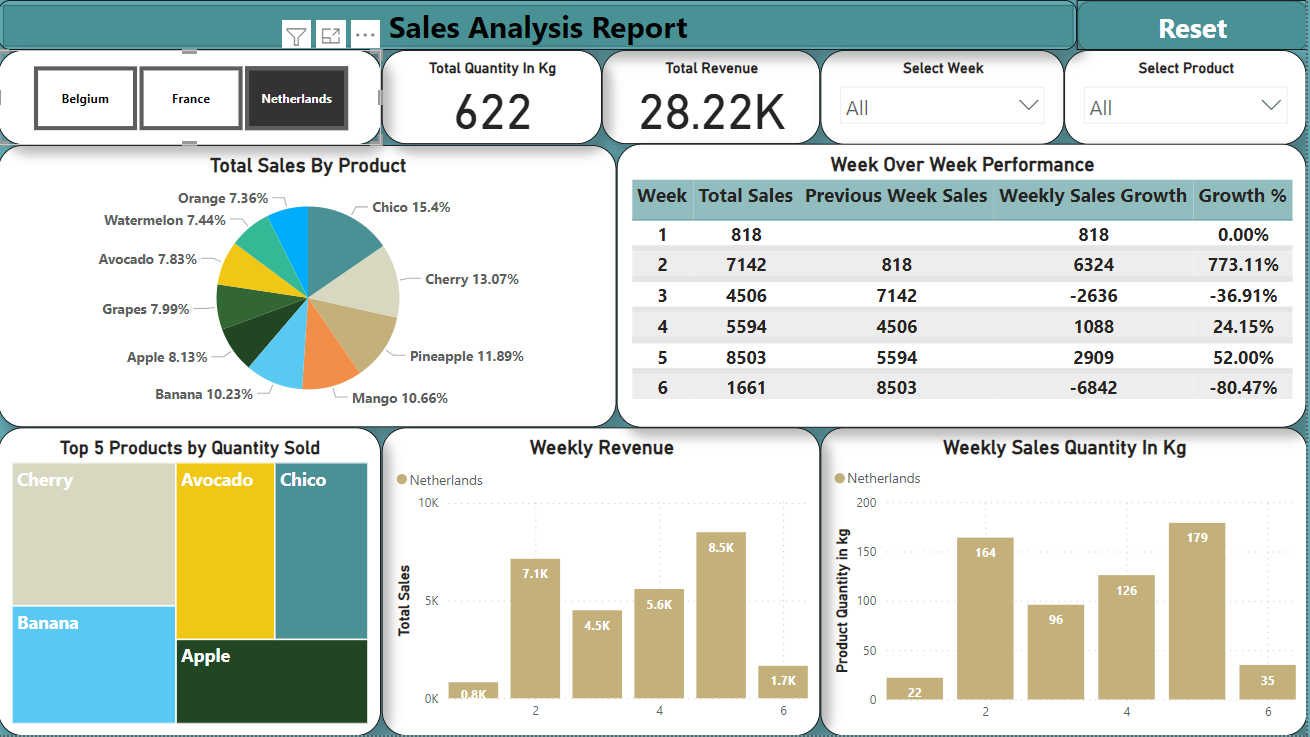

Layout of this report page (visuals, bound fields, positions):
{"tool":"powerbi","page":{"name":"Page 1","canvas":[1280,720],"ordinal":0},"visuals":[{"type":"slicer","fields":{"Values":["Final table.Country "]},"box":[0,48.9,375.3,92.9],"z":0},{"type":"card","title":"Total Revenue ","fields":{"Values":["Final table.total sales"]},"box":[590.4,48.9,213.9,91.7],"z":1000},{"type":"slicer","title":"Select Week ","fields":{"Values":["Final table.week num"]},"box":[804.3,48.9,238.4,92.9],"z":2000},{"type":"slicer","title":"Select Product","fields":{"Values":["Final table.product_name"]},"box":[1042.7,48.9,237.1,92.9],"z":3000},{"type":"pieChart","title":"Total Sales By Product ","fields":{"Y":["Final table.total sales"],"Category":["Final table.product_name"]},"box":[0,141.8,605.1,276.3],"z":4000},{"type":"columnChart","title":"Weekly Sales Quantity In Kg","fields":{"Category":["Final table.week num"],"Y":["Sum(Final table.weight_kg)"],"Series":["Final table.Country "]},"box":[804.1,418.5,476.2,301.9],"z":5000},{"type":"columnChart","title":"Weekly Revenue ","fields":{"Y":["Final table.total sales"],"Category":["Final table.week num"],"Series":["Final table.Country "]},"box":[375.3,418.1,429.1,301.9],"z":6000},{"type":"tableEx","title":"Week Over Week Performance ","fields":{"Values":["Final table.week num","Final table.total sales","Final table.previous week","Final table.wow","Final table.Growth %"]},"box":[605.1,140.6,674.8,277.5],"z":7000},{"type":"treemap","title":"Top 5 Products by Quantity Sold","fields":{"Group":["Final table.product_name"],"Values":["Sum(Final table.weight_kg)"]},"box":[0,418.1,374.1,301.9],"z":8000},{"type":"shape","title":"Sal","box":[0,0,1054.9,48.9],"z":9000},{"type":"card","title":"Total Quantity In Kg","fields":{"Values":["Sum(Final table.weight_kg)"]},"box":[375.3,48.9,215.1,91.7],"z":10000},{"type":"shape","box":[1054.9,0,224.9,48.9],"z":11000}]}

Visuals, with their boxes in screenshot pixels (x1, y1, x2, y2), scaled from the page's 1280x720 canvas onto the 1310x737 screenshot:
slicer - Final table.Country : pyautogui.locateOnScreen(0, 50, 384, 145)
"Total Revenue " card: pyautogui.locateOnScreen(604, 50, 823, 144)
"Select Week " slicer: pyautogui.locateOnScreen(823, 50, 1067, 145)
"Select Product" slicer: pyautogui.locateOnScreen(1067, 50, 1309, 145)
"Total Sales By Product " pieChart: pyautogui.locateOnScreen(0, 145, 619, 428)
"Weekly Sales Quantity In Kg" columnChart: pyautogui.locateOnScreen(823, 428, 1309, 736)
"Weekly Revenue " columnChart: pyautogui.locateOnScreen(384, 428, 823, 736)
"Week Over Week Performance " tableEx: pyautogui.locateOnScreen(619, 144, 1309, 428)
"Top 5 Products by Quantity Sold" treemap: pyautogui.locateOnScreen(0, 428, 383, 736)
"Sal" shape: pyautogui.locateOnScreen(0, 0, 1080, 50)
"Total Quantity In Kg" card: pyautogui.locateOnScreen(384, 50, 604, 144)
shape: pyautogui.locateOnScreen(1080, 0, 1309, 50)
